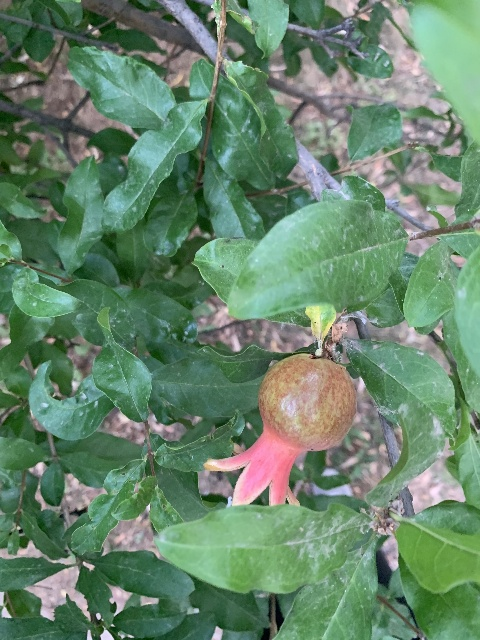early-fruit: (203, 355, 356, 509)
